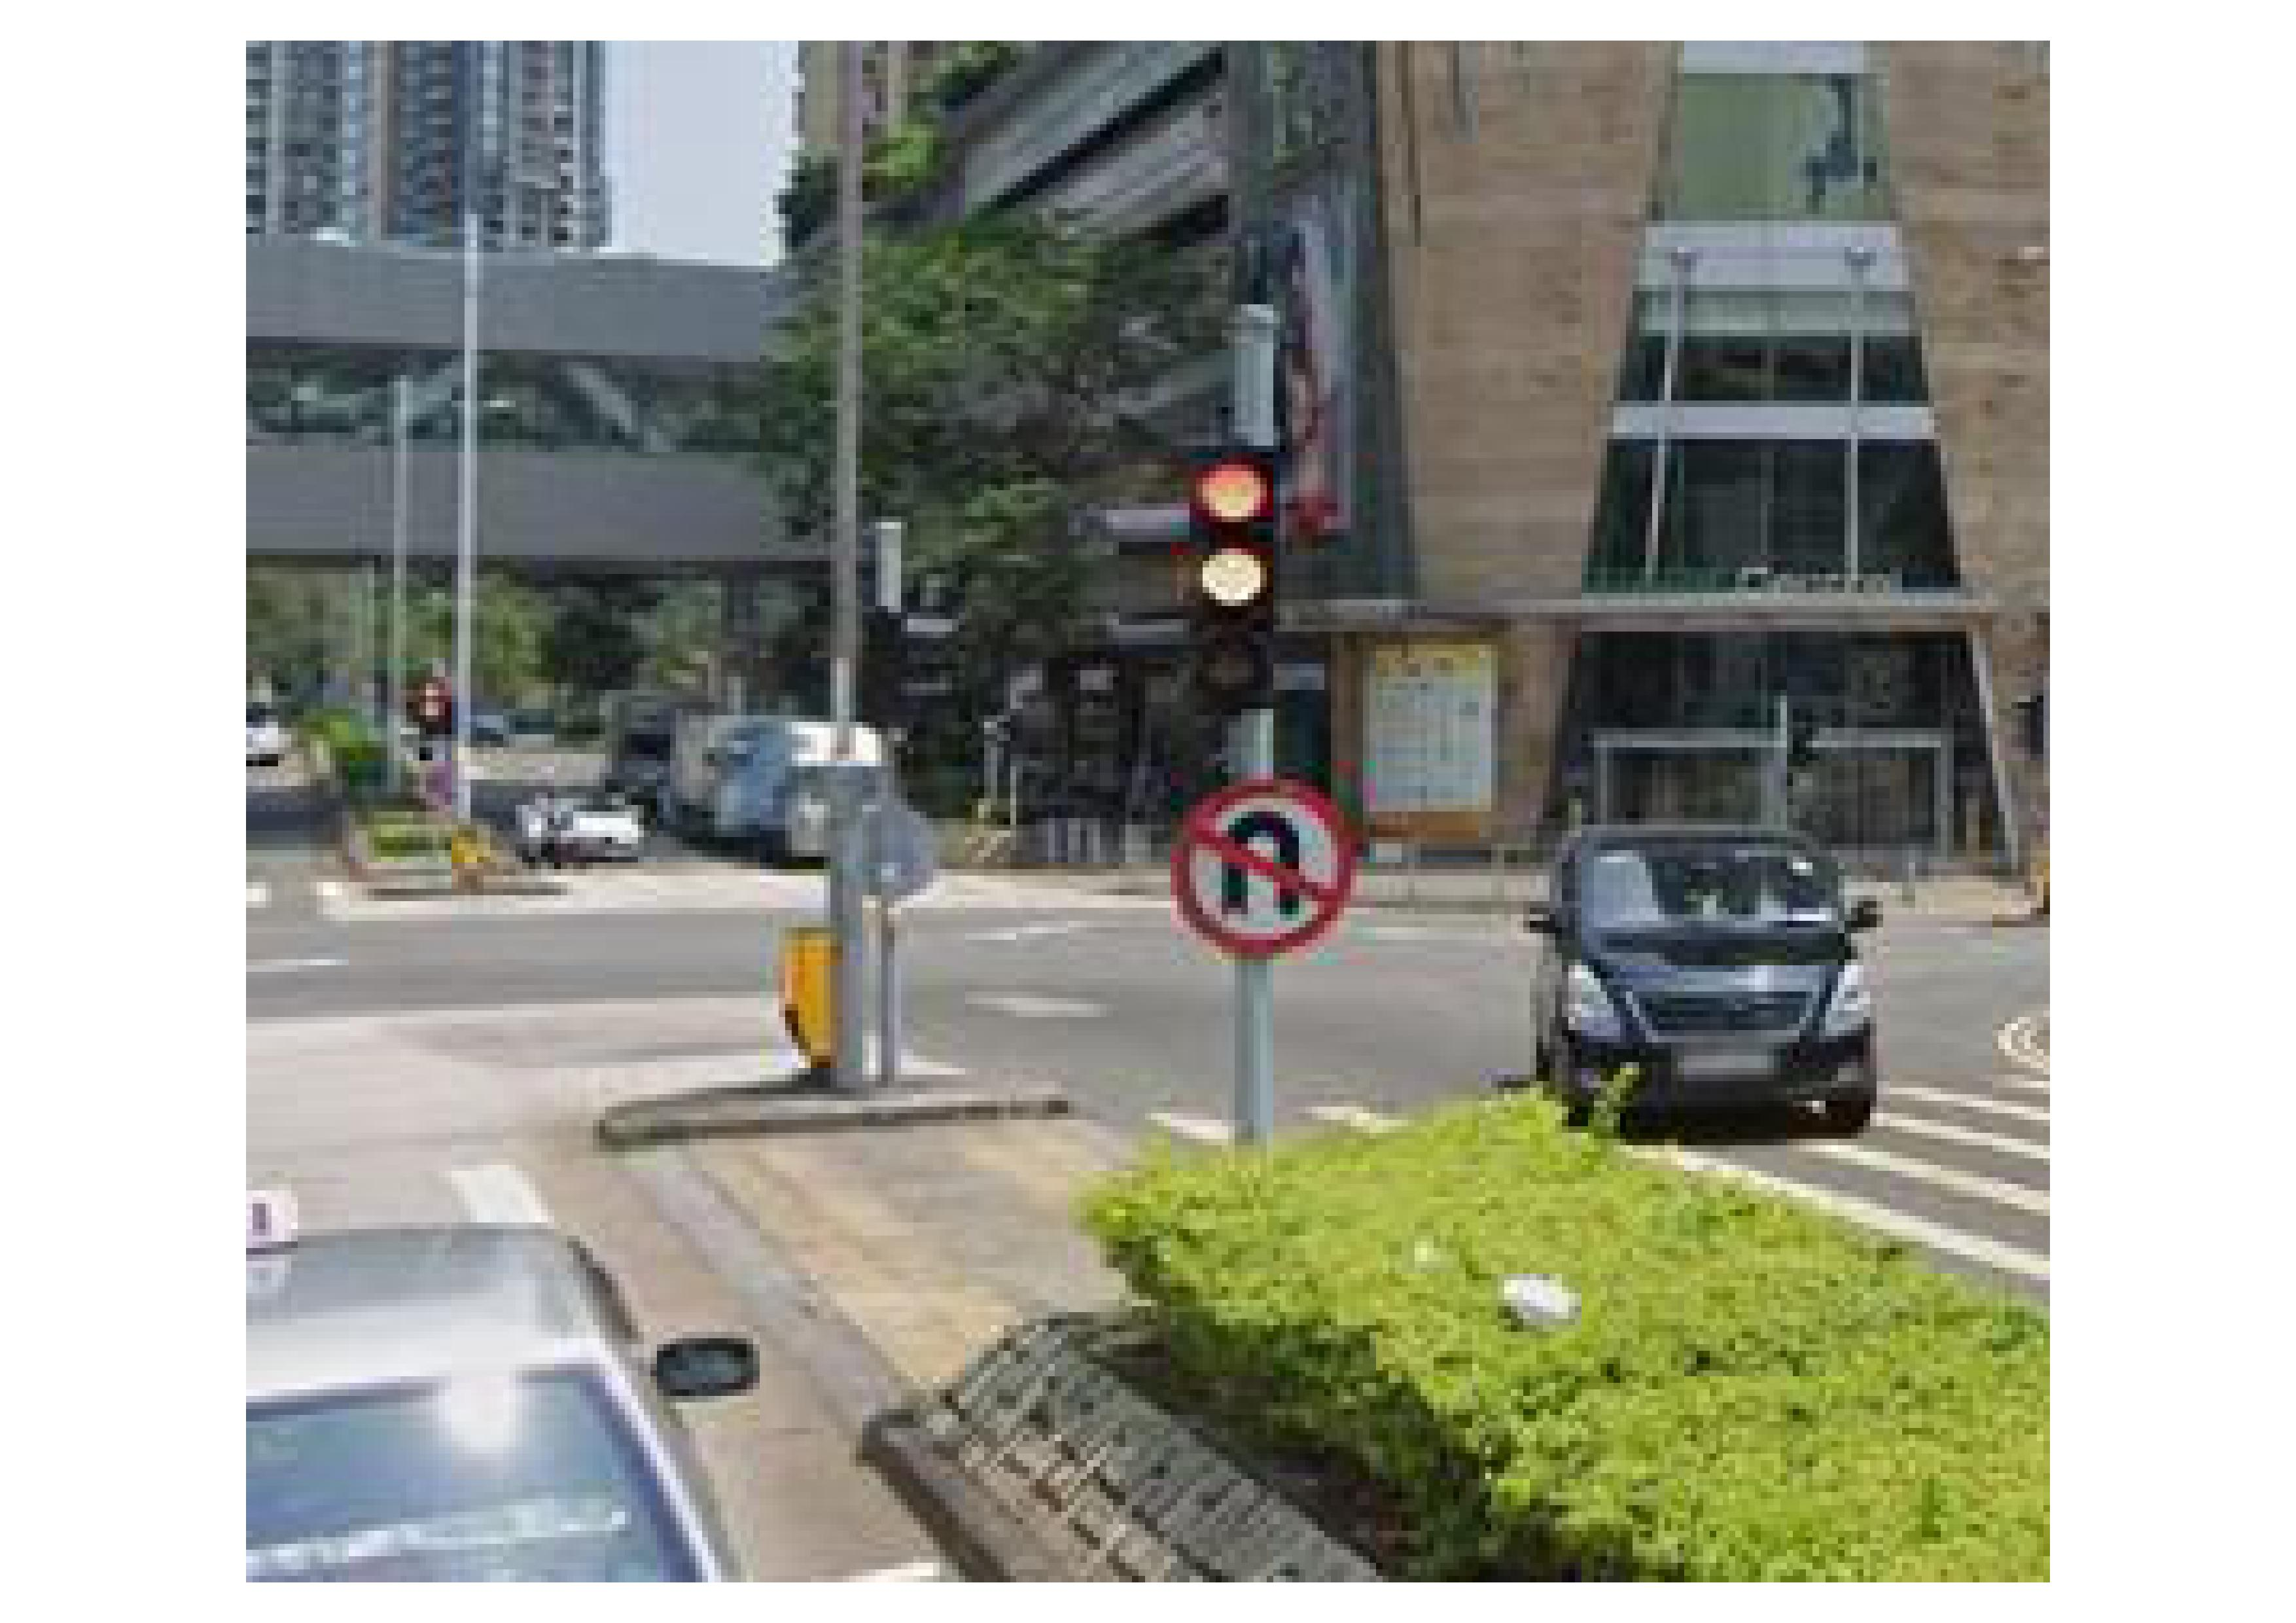No Uturn: (1159, 768, 1366, 945)
